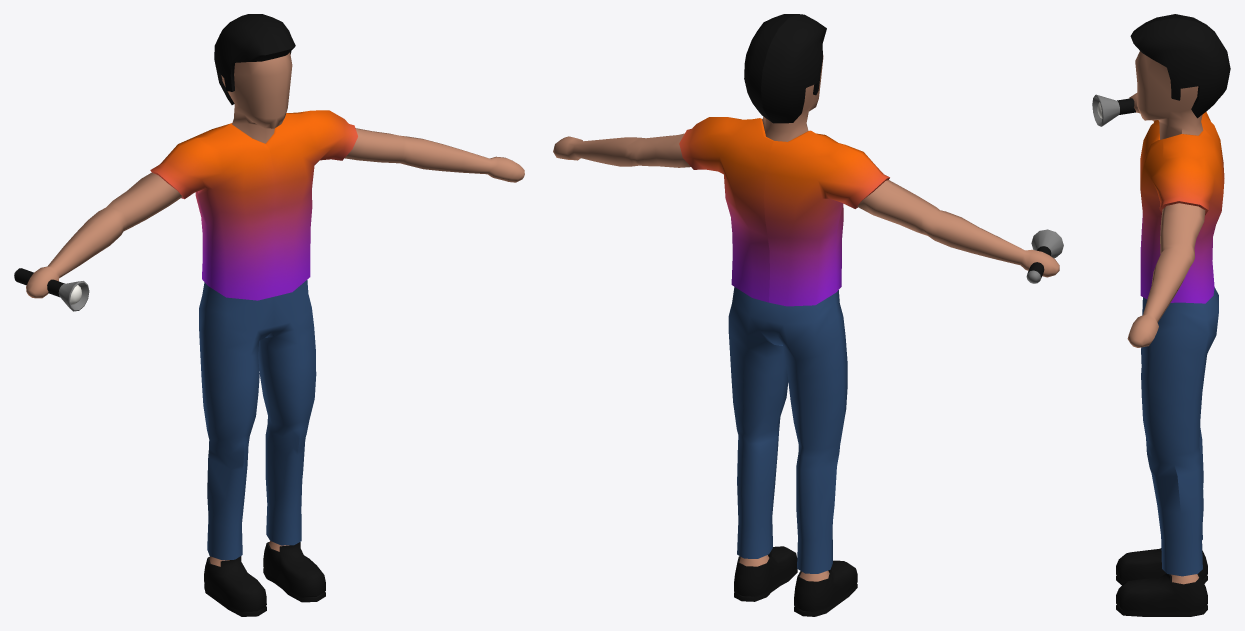
File: Guard.fbx
3 renders of one model, left to right at view 1: azimuth 30°, elevation 25°; view 2: azimuth 150°, elevation 25°; view 3: azimuth 270°, elevation 25°, orthographic.
Parts seen in each view (by area): view 1: Guard; view 2: Guard; view 3: Guard.
Part boxes in pixels (box(x1,y1,x2,y2)): Guard: box(14, 14, 524, 616); Guard: box(553, 14, 1063, 616); Guard: box(1092, 14, 1230, 616).
Bounding box in the file's own units: 157 × 172 × 37.38.
